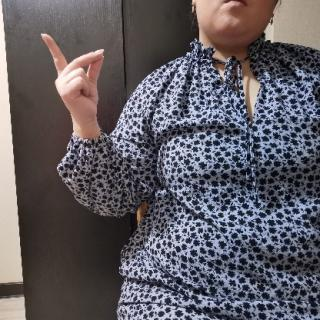TAA: (39, 30, 109, 126)
